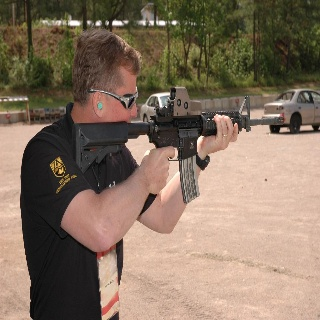rifle: (71, 86, 285, 203)
